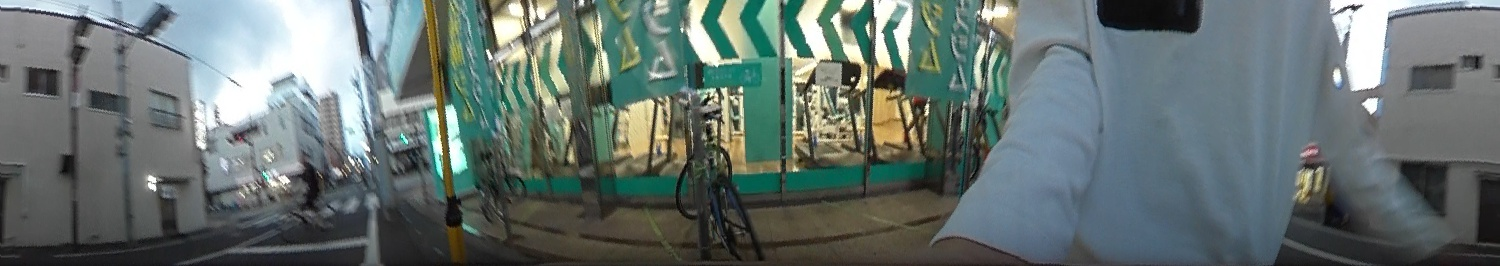person: (289, 151, 325, 211)
